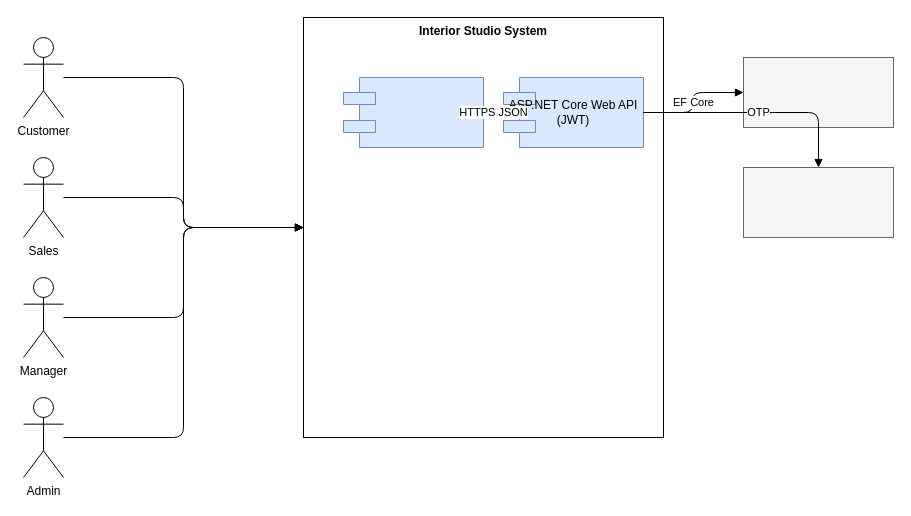
This 911x516 diagram has some shape labels left out. Here are the shapes that lost their labels. From the top down, the box of each, then its label:
(342, 76, 484, 148): React SPA (Vite)
(742, 56, 894, 128): SQL Server InteriorStudio
(742, 166, 894, 238): SMTP Email OTP
